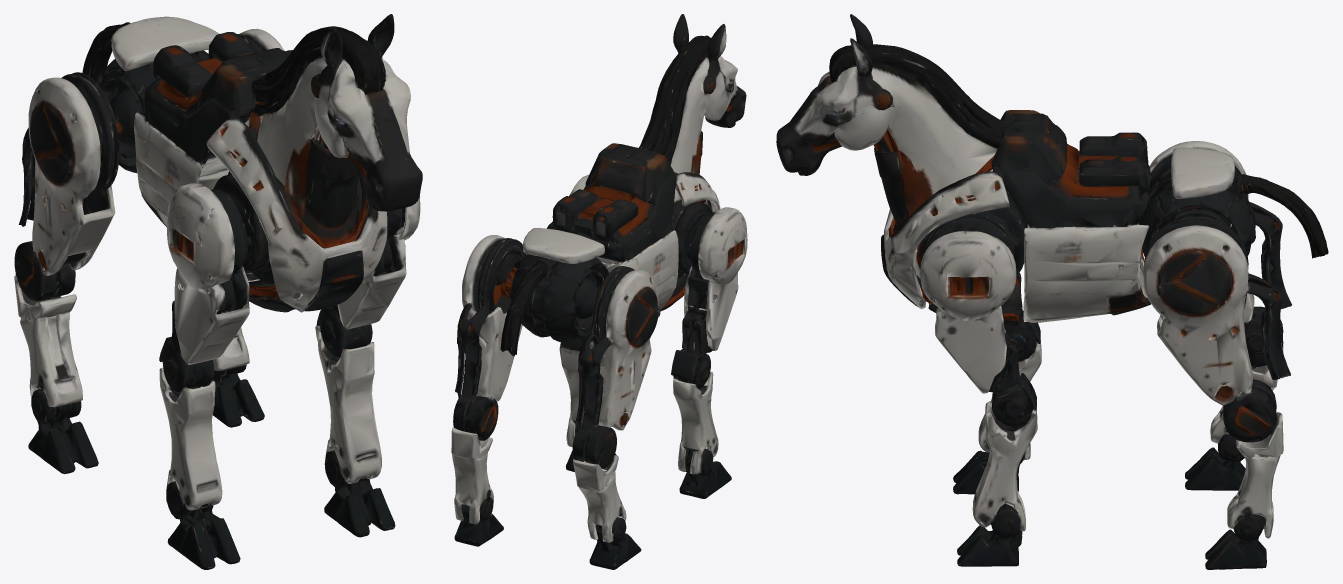
Rendered from detail_13.glb.
The picture shows the model from 3 angles, left to right: view 1: azimuth 30°, elevation 25°; view 2: azimuth 150°, elevation 25°; view 3: azimuth 270°, elevation 25°; orthographic projection. The views are drawn at different scales.
Visible parts, largest first — view 1: Mesh_0; view 2: Mesh_0; view 3: Mesh_0.
Part boxes in pixels (bbox=[...]): Mesh_0: bbox=[14, 14, 422, 569]; Mesh_0: bbox=[451, 14, 747, 569]; Mesh_0: bbox=[776, 14, 1328, 569].
Size of the model in its own units: 0.4239 by 0.9915 by 0.9905.
1 material, 1 textured.
